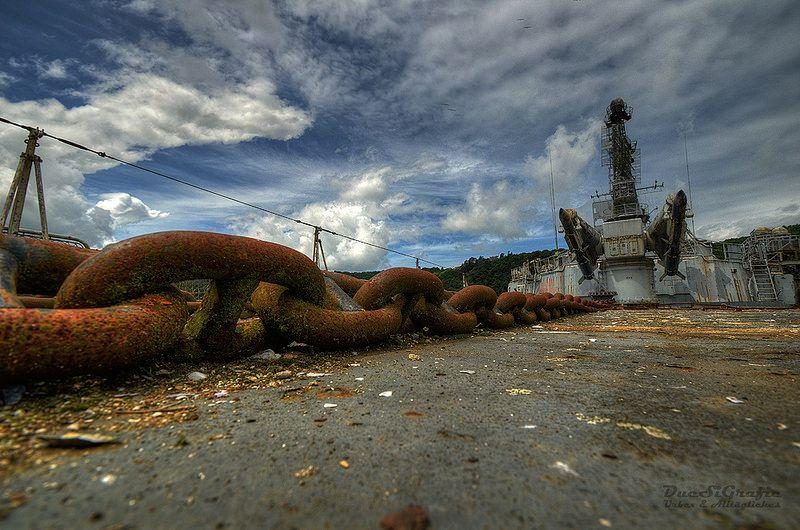rust: (25, 242, 299, 360), (364, 282, 526, 340), (560, 295, 599, 311)
